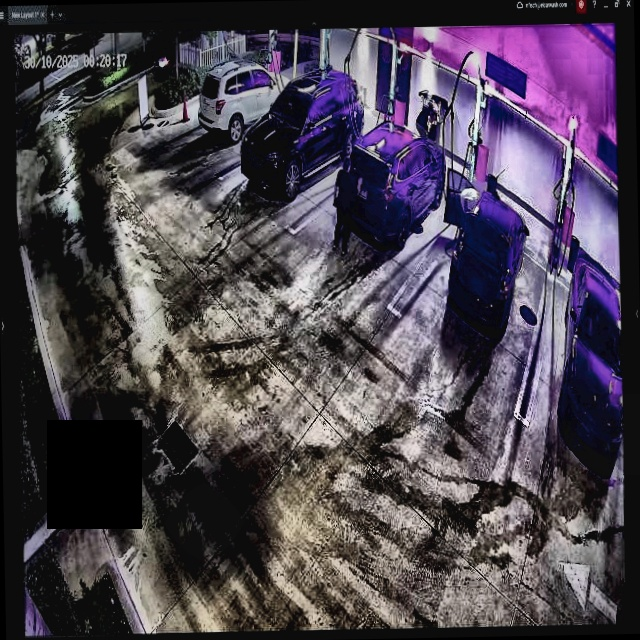Car: (238, 69, 364, 199), (444, 166, 531, 336), (343, 119, 445, 246)
